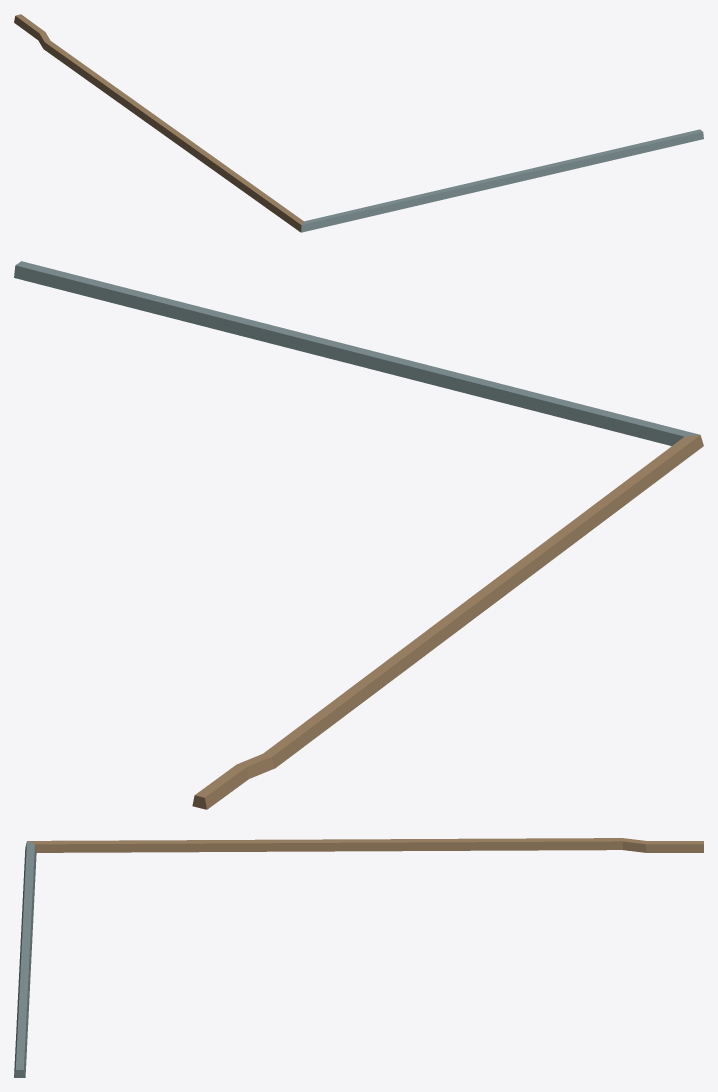
The model's file is wall-08.glb.
3 renders of one model, top to bottom at view 1: azimuth 30°, elevation 25°; view 2: azimuth 150°, elevation 25°; view 3: azimuth 270°, elevation 25°, orthographic. The views are drawn at different scales.
Visible parts, largest first — view 1: C_transition_direct_08; view 2: C_transition_direct_08; view 3: C_transition_direct_08.
Boxes of the visible parts, x1=… form: C_transition_direct_08: x1=14, y1=14, x2=703, y2=232; C_transition_direct_08: x1=14, y1=261, x2=703, y2=809; C_transition_direct_08: x1=14, y1=838, x2=703, y2=1077.
Size of the model in its own units: 381 by 6.03 by 477.
